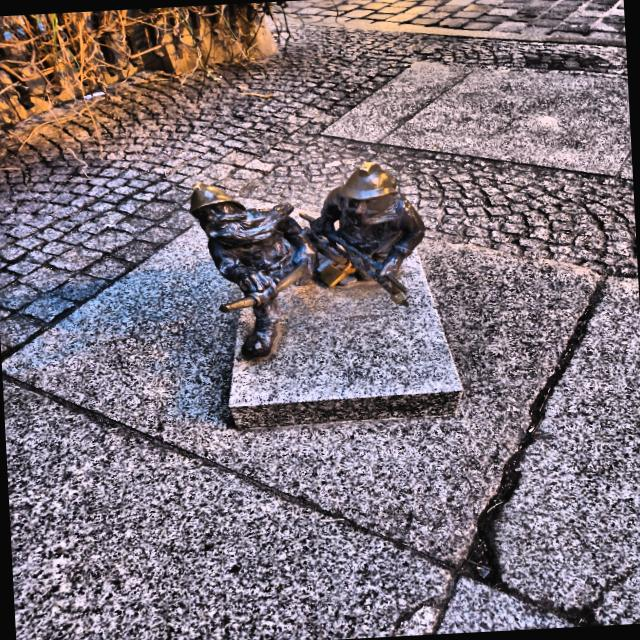Pozarki: (190, 163, 426, 356)
